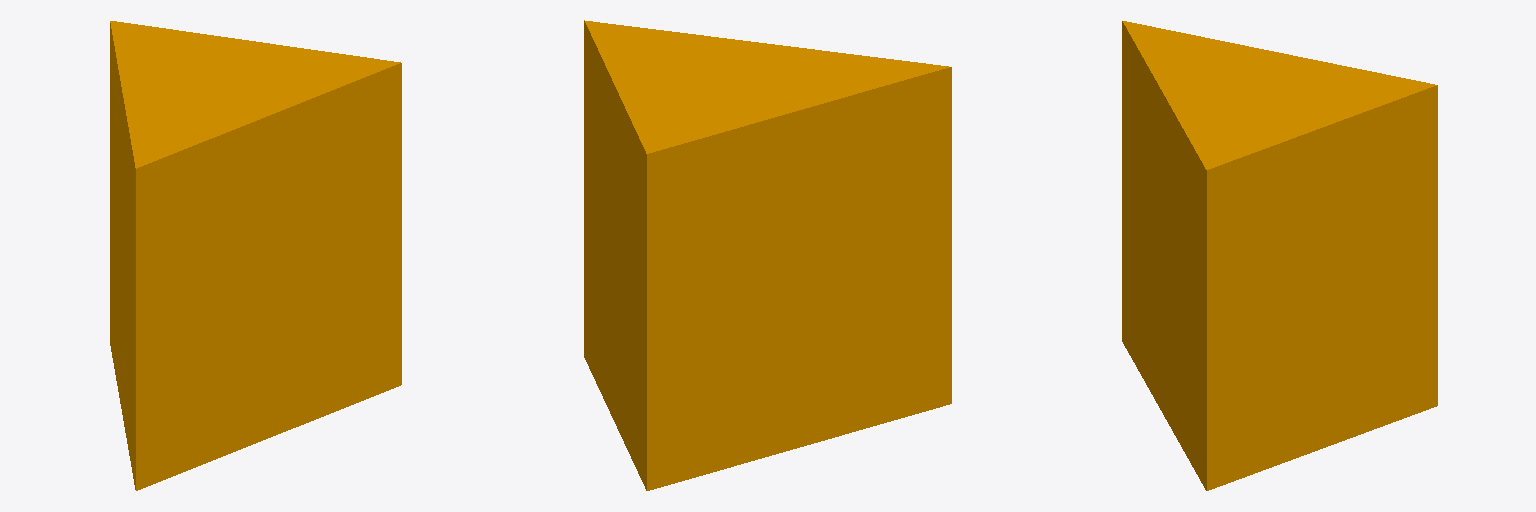
robot.urdf — object:
<?xml version="1.0"?>
<robot name="object">
  <link name="object">
    <visual>
      <origin xyz="0 0 0"/>
      <geometry>
        <mesh filename="meshes/generated/col_119.obj" scale="0.03 0.03 0.03"/>
      </geometry>
    </visual>
    <collision>
      <origin xyz="0 0 0"/>
      <geometry>
        <mesh filename="meshes/generated/col_119.obj" scale="0.03 0.03 0.03"/>
      </geometry>
    </collision>
    <inertial>
      <density value="1000.0"/>
    </inertial>
  </link>
</robot>

--- Render facts (derived) ---
The picture shows the robot from 3 angles, left to right: view 1: azimuth 30°, elevation 25°; view 2: azimuth 150°, elevation 25°; view 3: azimuth 270°, elevation 25°; orthographic projection.
Robot: object — 1 links, 0 joints (none); root link object; default pose: all joints at 0.
Visible links, largest first — view 1: object; view 2: object; view 3: object.
Link boxes in pixels (box(x1,y1,x2,y2)): object: box(110, 21, 401, 490); object: box(584, 20, 951, 490); object: box(1122, 21, 1437, 490).
Bounding box of the posed robot: 0.0601 × 0.0535 × 0.06 m (x, y, z).
1 mesh visuals loaded from 1 distinct referenced files (1 OBJ).
